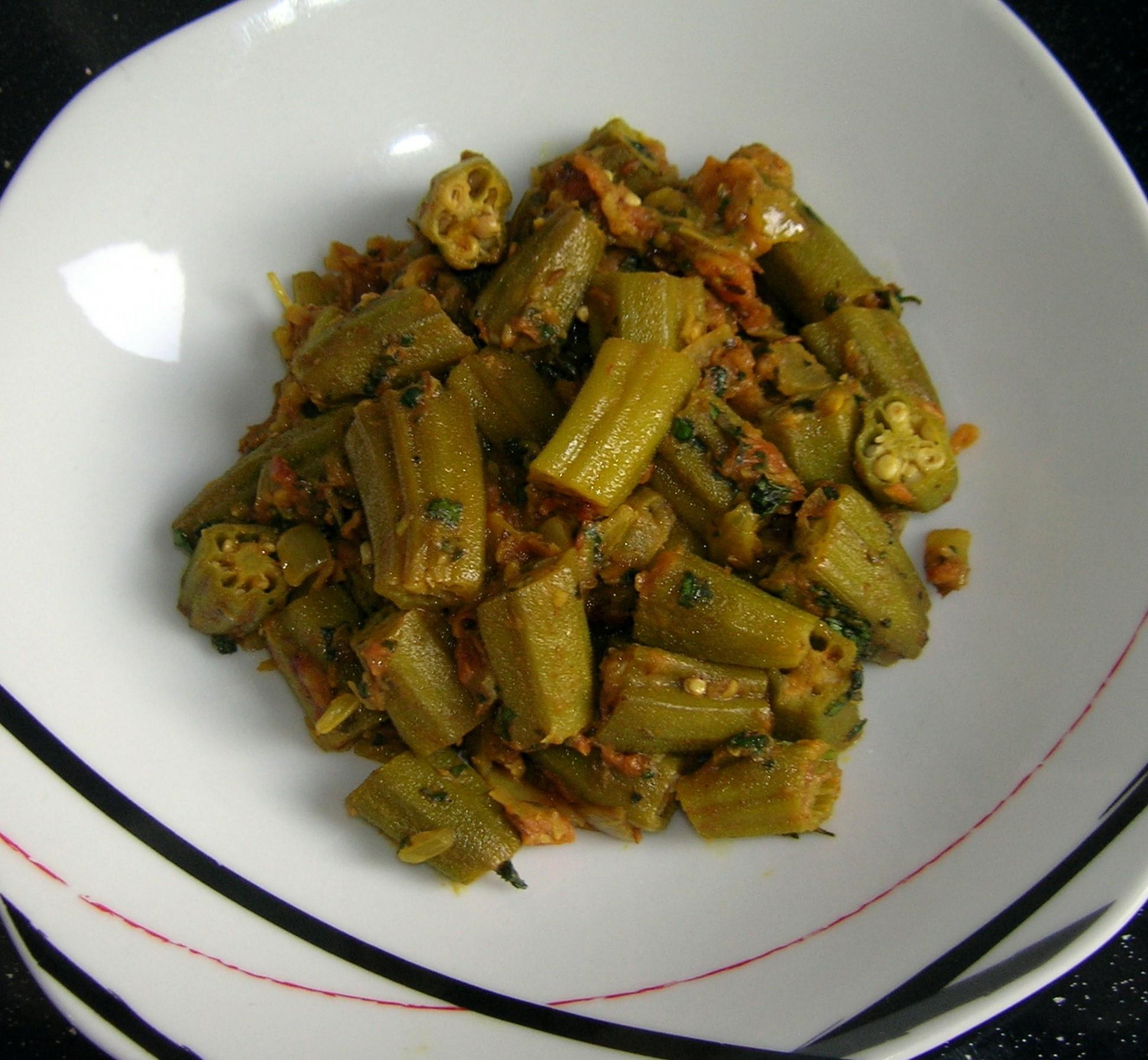BhindiMasala: (173, 120, 974, 895)
